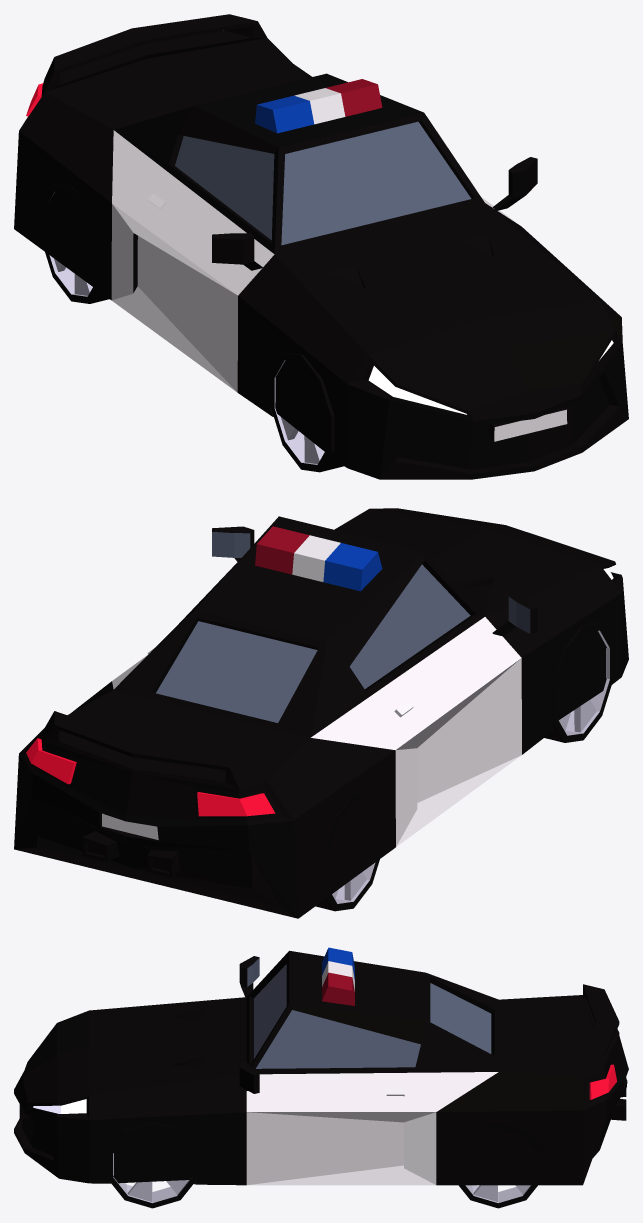
File: police_sports.glb
3 renders of one model, top to bottom at view 1: azimuth 30°, elevation 25°; view 2: azimuth 150°, elevation 25°; view 3: azimuth 270°, elevation 25°, orthographic. The views are drawn at different scales.
Parts seen in each view (by area): view 1: Police Sports, Police Sports wheel front right, Police Sports wheel rear right; view 2: Police Sports, Police Sports wheel front right, Police Sports wheel rear right; view 3: Police Sports, Police Sports wheel front left, Police Sports wheel rear left.
Part boxes in pixels (x1,y1,x2,y2): Police Sports: [14, 14, 628, 479]; Police Sports wheel front right: [271, 352, 343, 472]; Police Sports wheel rear right: [41, 184, 109, 303]; Police Sports: [14, 508, 628, 918]; Police Sports wheel front right: [544, 622, 613, 742]; Police Sports wheel rear right: [315, 793, 379, 911]; Police Sports: [14, 947, 628, 1185]; Police Sports wheel front left: [107, 1121, 197, 1208]; Police Sports wheel rear left: [459, 1122, 543, 1208].
Bounding box in the file's own units: 2.63 × 1.95 × 5.73.
